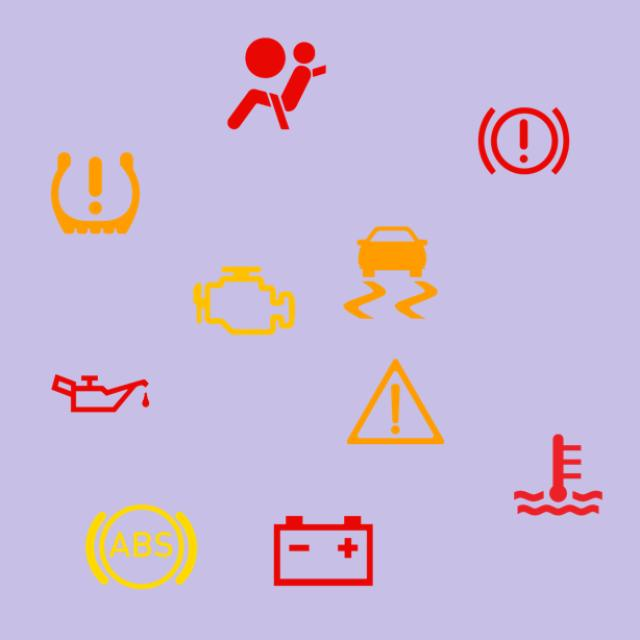Anti Lock Braking System: (80, 486, 202, 608)
Braking System Issue: (463, 80, 585, 202)
Charging System Issue: (262, 490, 384, 612)
Check Engine: (184, 240, 306, 362)
Electronic Stability Problem -ESP-: (329, 212, 452, 334)
Engine Overheating Warning Light: (497, 414, 619, 536)
Low Engine Oil Warning Light: (40, 332, 162, 454)
Low Tire Pressure Warning Light: (35, 133, 156, 255)
Master warning light: (334, 341, 456, 463)
SRS-Airbag: (215, 23, 338, 145)
